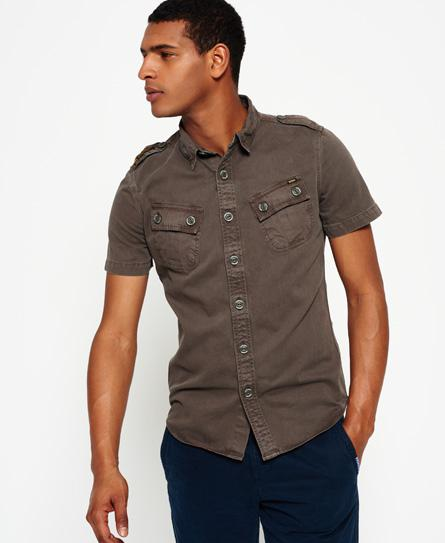teeshirt: (92, 95, 388, 460)
